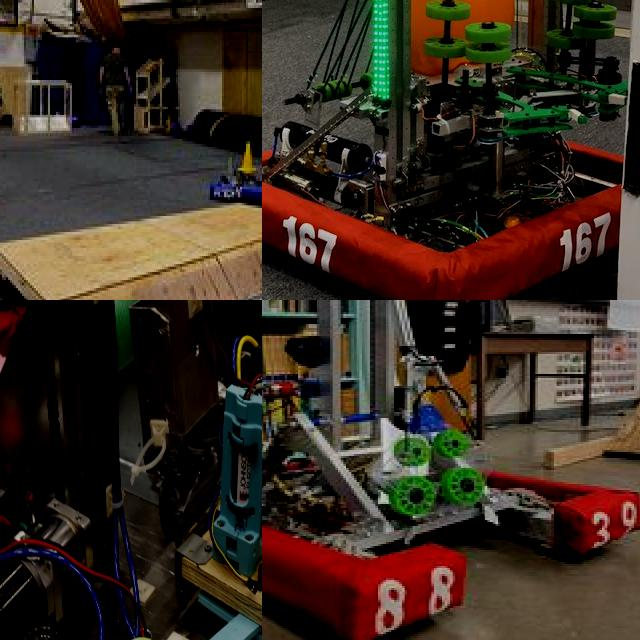FRC-Robots: (262, 300, 640, 624), (262, 0, 640, 300), (0, 300, 262, 640), (197, 121, 262, 225)
